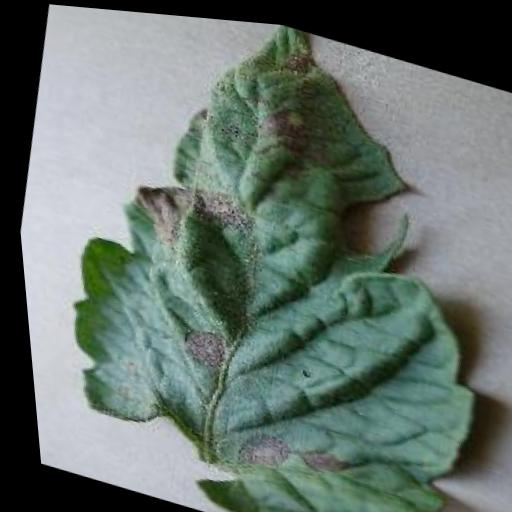Early Blight: (12, 1, 512, 512)
